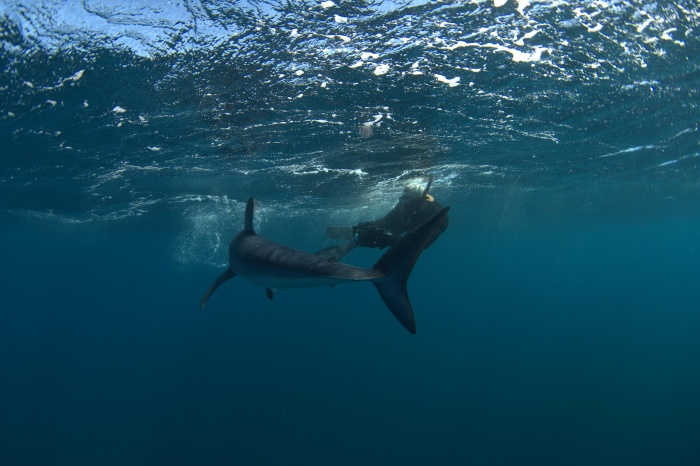Mako: (191, 194, 462, 342)
